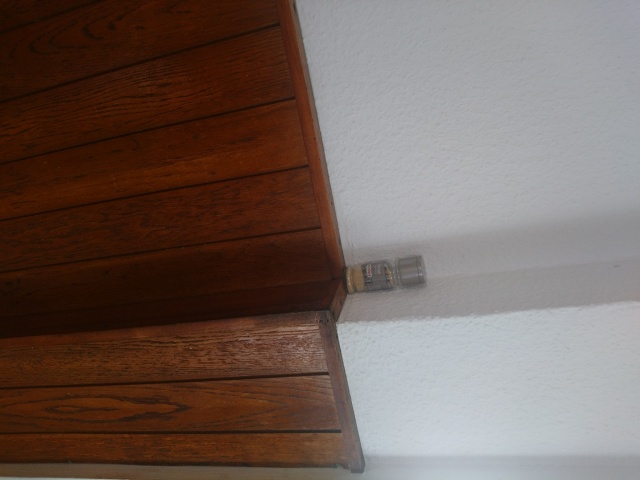Kotanyi Garlic Granules 70g: (340, 252, 428, 297)
